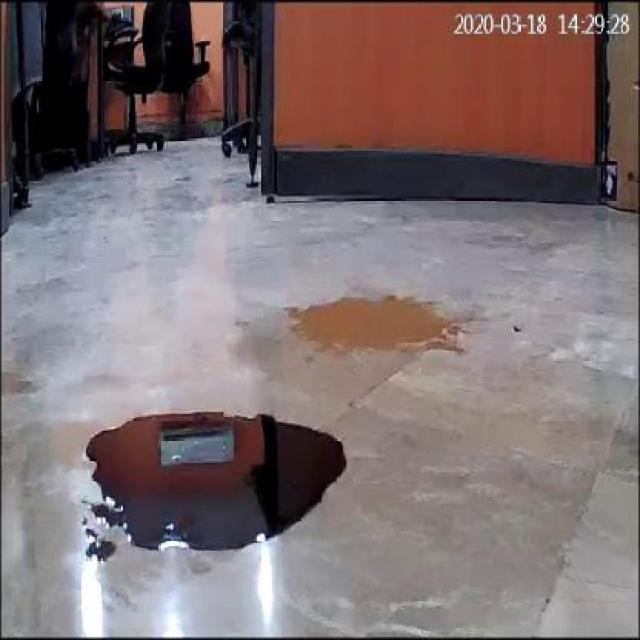spill: (82, 406, 344, 562), (282, 288, 458, 360)
